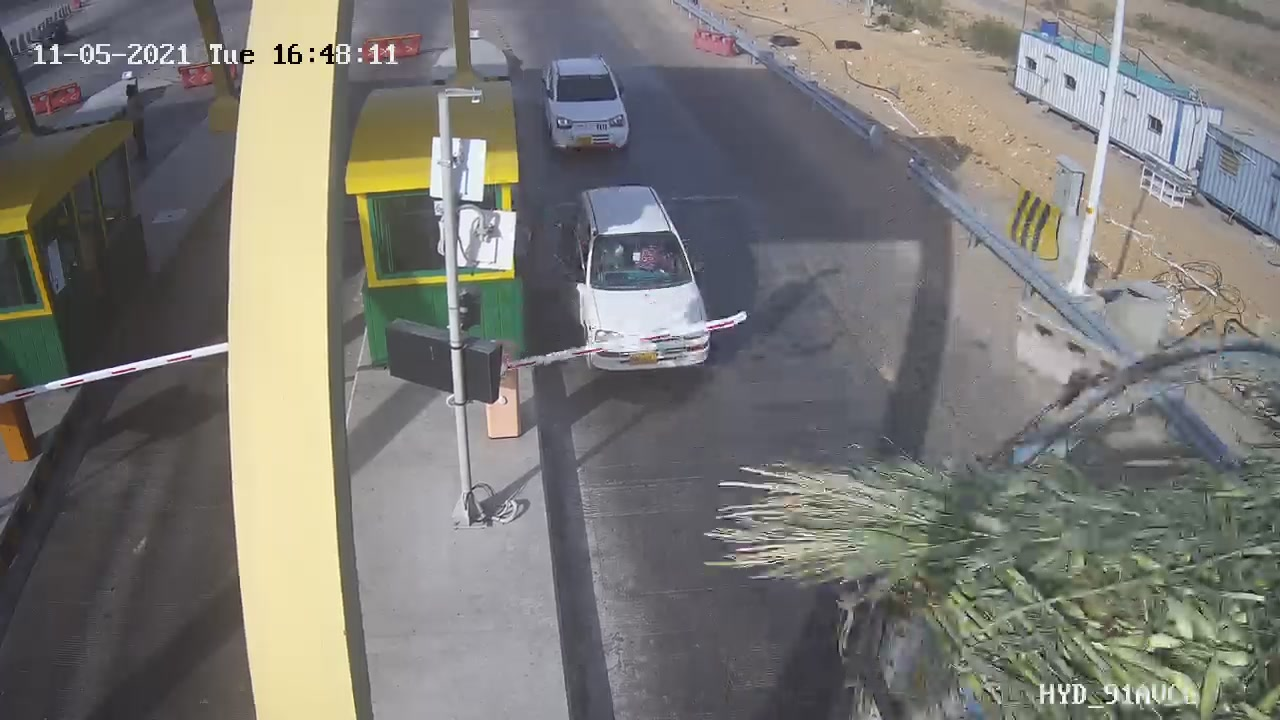F1: (552, 178, 739, 385), (530, 40, 647, 164)
